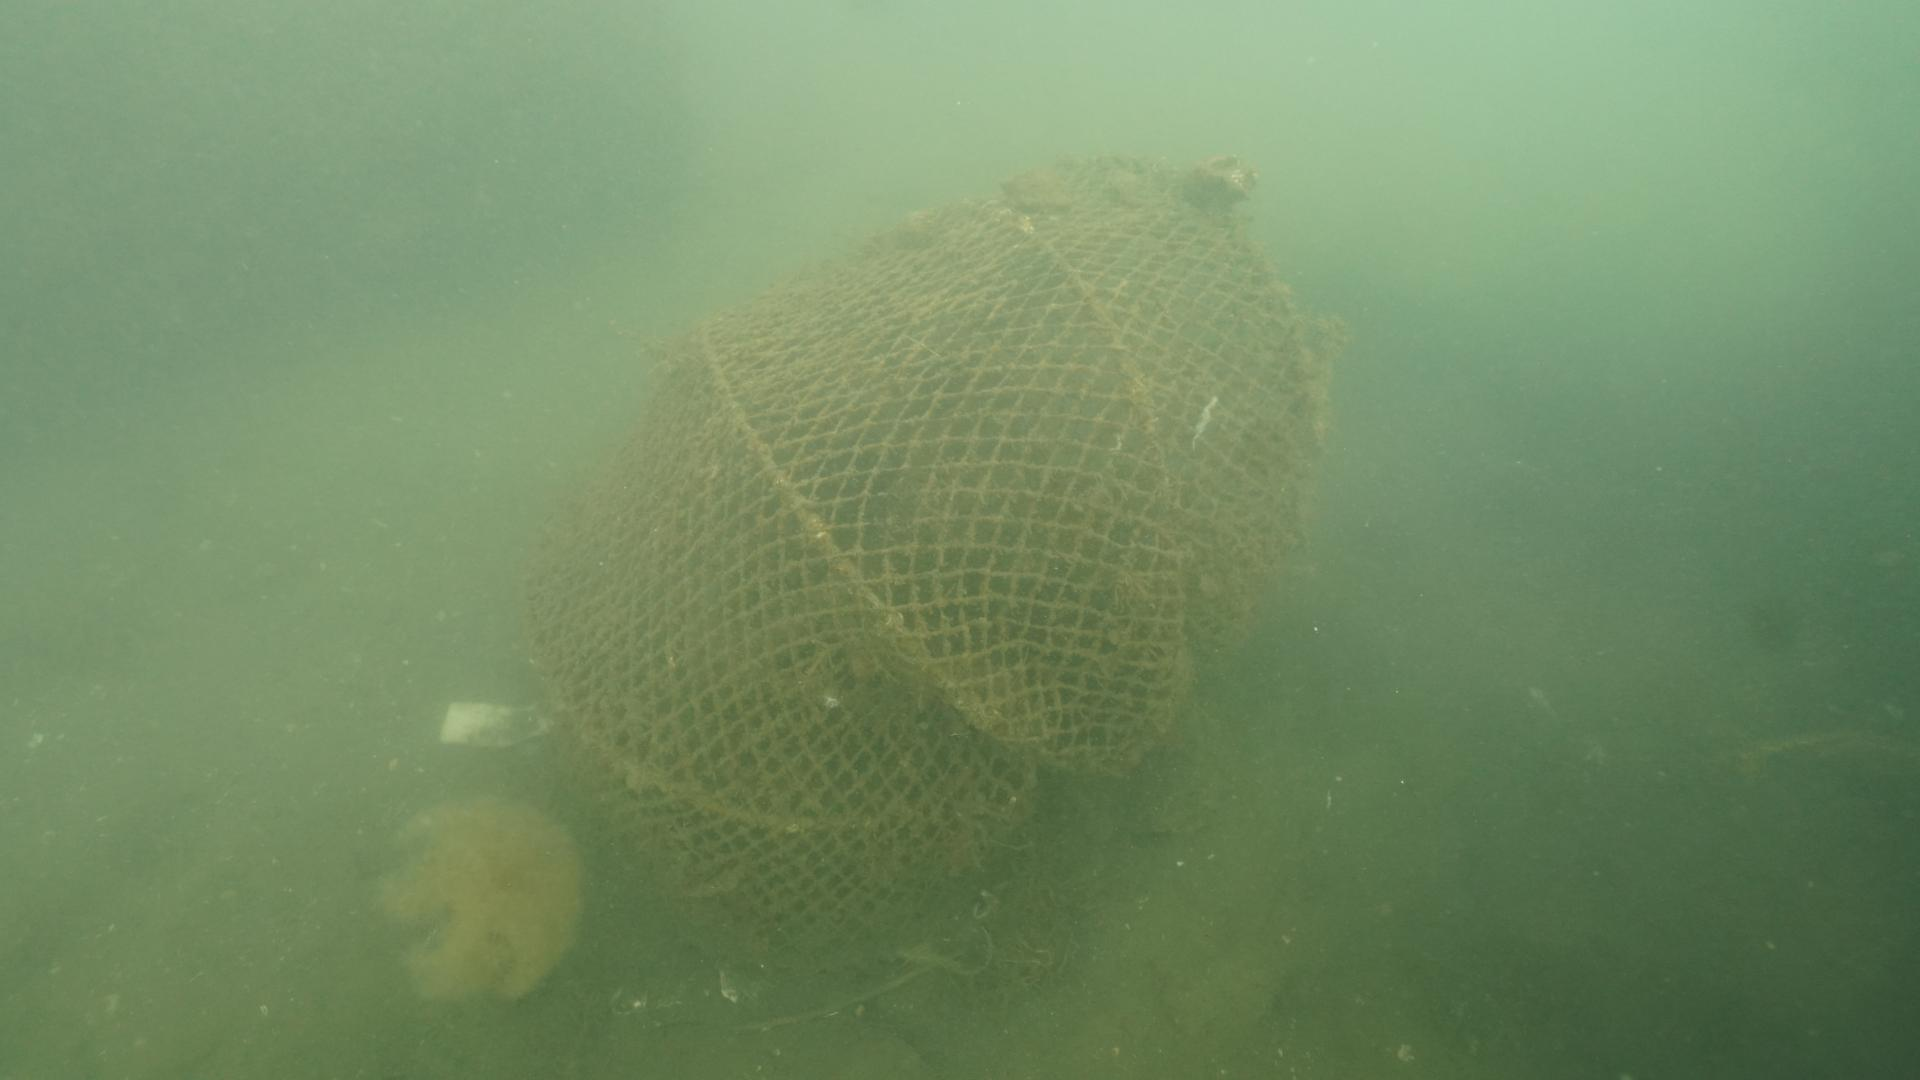spring fish trap: (517, 152, 1333, 978)
